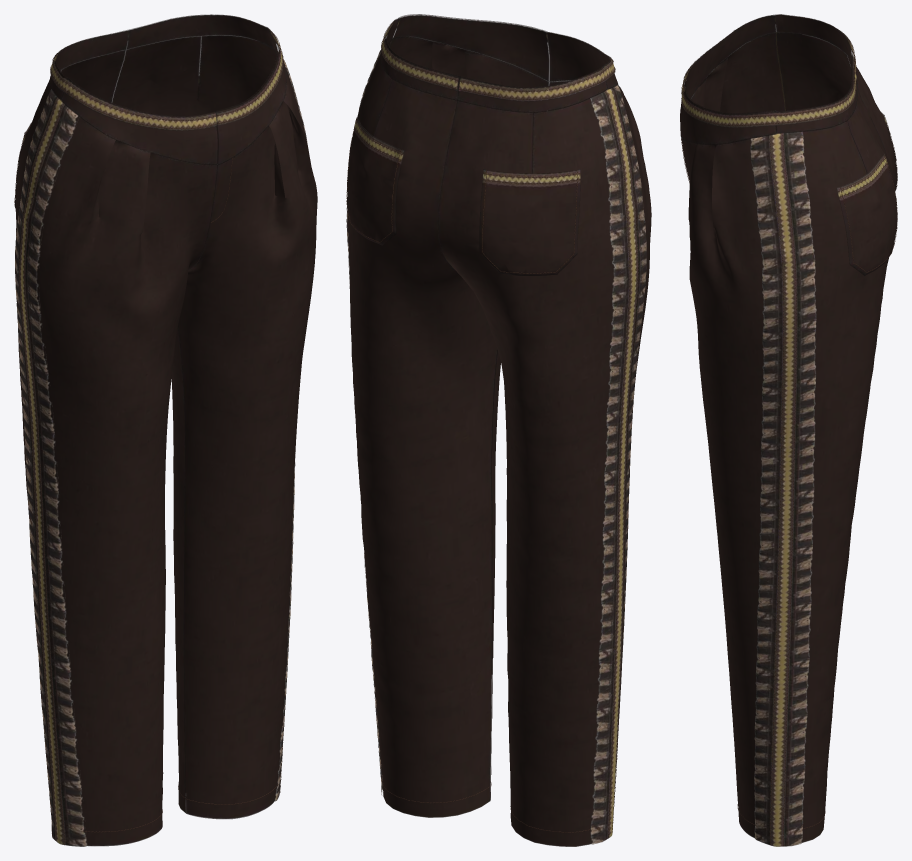
Rendered from sweatpants.glb.
3 views of the same model, side by side, from view 1: azimuth 30°, elevation 25°; view 2: azimuth 150°, elevation 25°; view 3: azimuth 270°, elevation 25° (orthographic). The views are drawn at different scales.
Parts seen in each view (by area): view 1: Object_11, Object_5, Object_23; view 2: Object_5, Object_11, Object_23; view 3: Object_5, Object_11, Object_23.
Part boxes in pixels (<box>): Object_11: <box>15,15,307,846</box>; Object_5: <box>15,14,317,819</box>; Object_23: <box>14,32,283,844</box>; Object_5: <box>347,14,618,817</box>; Object_11: <box>346,15,651,846</box>; Object_23: <box>346,23,638,838</box>; Object_5: <box>680,14,897,842</box>; Object_11: <box>681,15,896,846</box>; Object_23: <box>681,40,897,846</box>.
Size of the model in its own units: 0.3918 by 1.02 by 0.2752.
5 materials, 5 textured.
